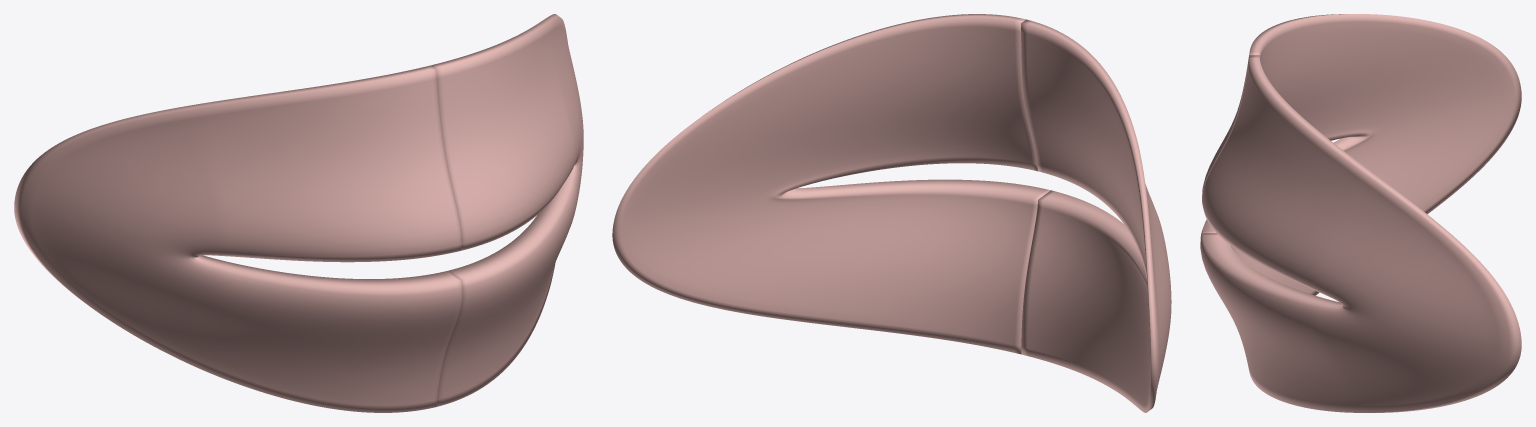
The model's file is orbicularis_oris.glb.
The picture shows the model from 3 angles, left to right: view 1: azimuth 30°, elevation 25°; view 2: azimuth 150°, elevation 25°; view 3: azimuth 270°, elevation 25°; orthographic projection. The views are drawn at different scales.
Parts seen in each view (by area): view 1: orbicularis_oris_R, orbicularis_oris_L; view 2: orbicularis_oris_L, orbicularis_oris_R; view 3: orbicularis_oris_L, orbicularis_oris_R.
Boxes of the visible parts, x1,y1,x2,y2 form: orbicularis_oris_R: [14, 65, 462, 412]; orbicularis_oris_L: [431, 14, 583, 406]; orbicularis_oris_L: [612, 14, 1050, 354]; orbicularis_oris_R: [1021, 19, 1171, 412]; orbicularis_oris_L: [1200, 55, 1521, 412]; orbicularis_oris_R: [1200, 14, 1521, 295].
Size of the model in its own units: 0.069 by 0.0405 by 0.0378.
